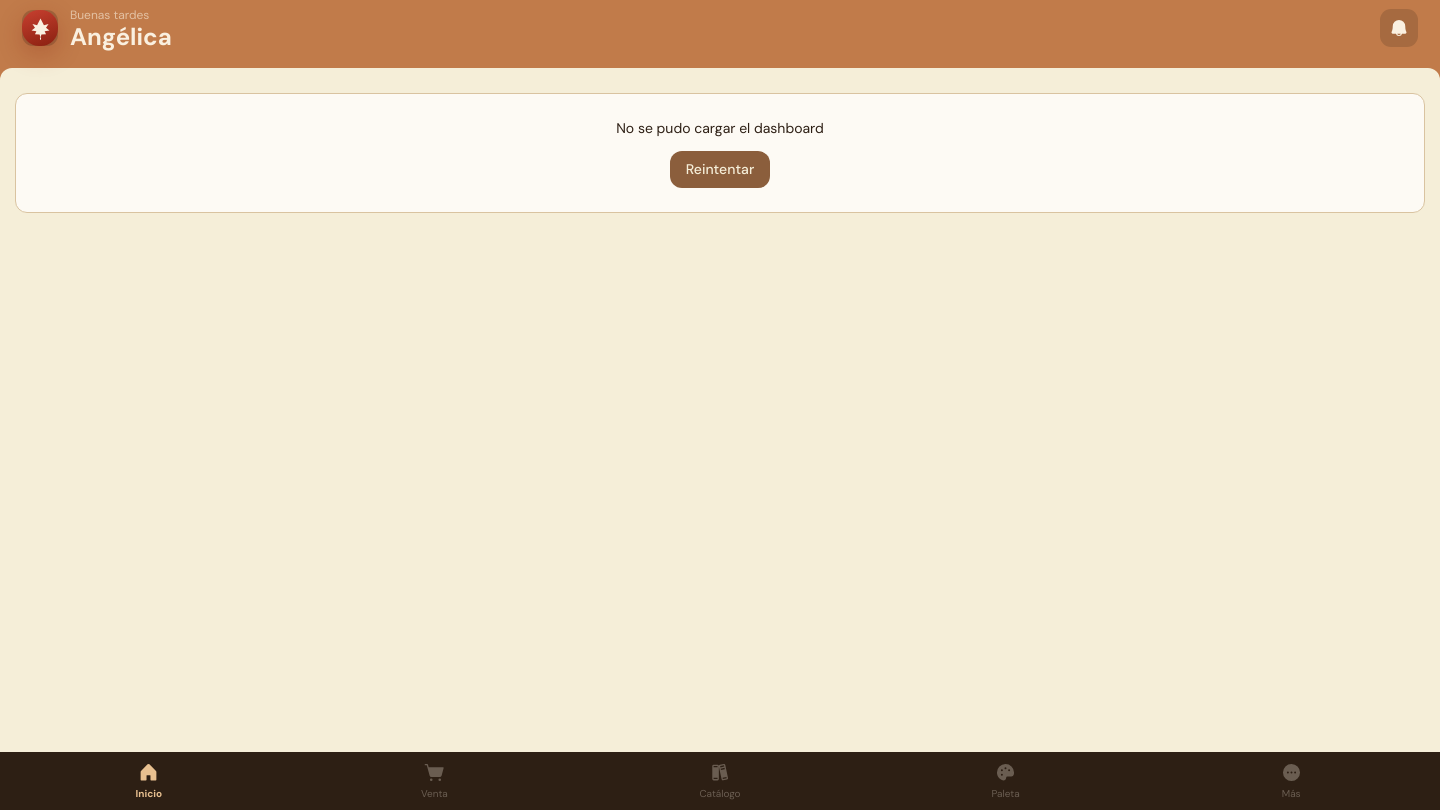
Test case: DashboardScreen › should_show_error_and_allow_retry
Expected: the text "No se pudo cargar el dashboard" is shown, [616,118,824,139]
Step 1. Click the button "Reintentar" → (720, 170), box [670,151,770,188]
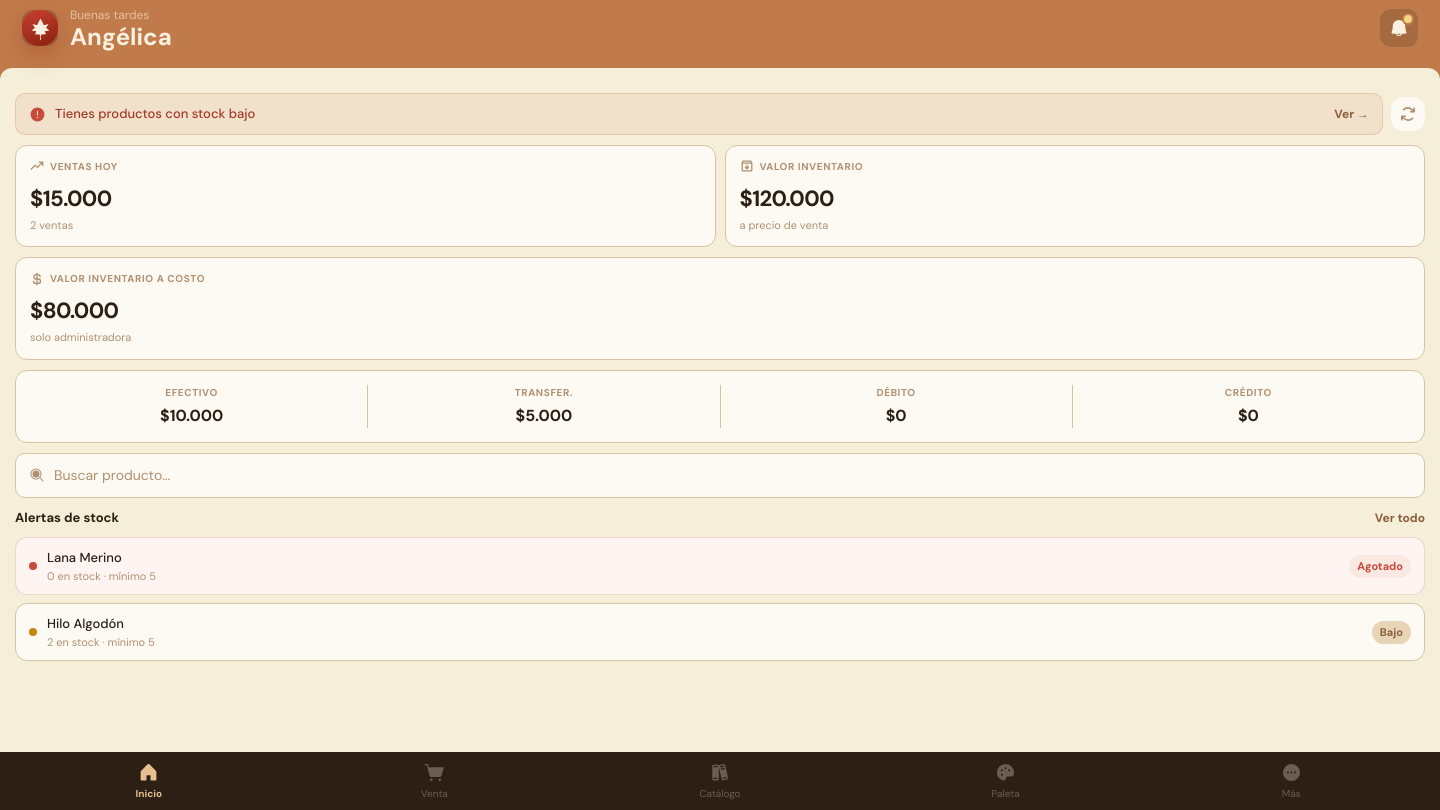
Expected: the text "$15.000" is shown, [30,184,112,213]
